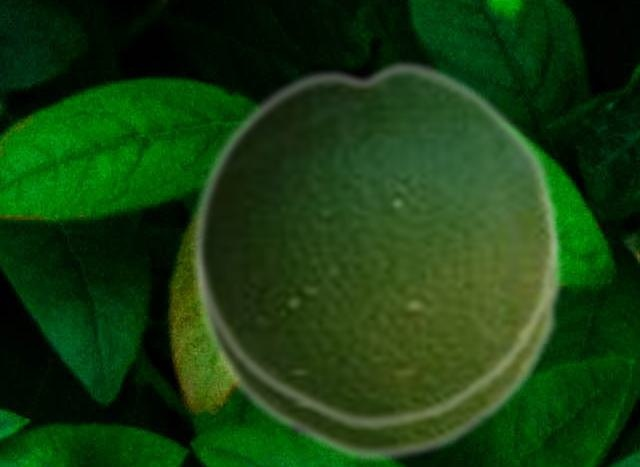dalandan: (190, 56, 561, 432), (193, 196, 564, 464)
